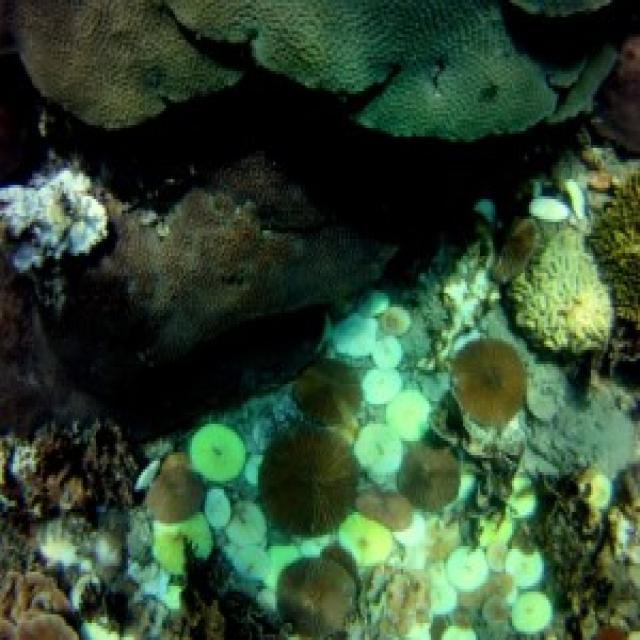Bleached: (353, 493, 551, 638), (327, 297, 430, 485), (511, 229, 609, 354), (1, 169, 108, 271), (191, 425, 244, 482)
Healthy: (10, 1, 613, 140), (1, 425, 225, 638), (206, 490, 315, 610), (261, 425, 359, 536), (453, 339, 526, 428), (340, 513, 394, 567)
